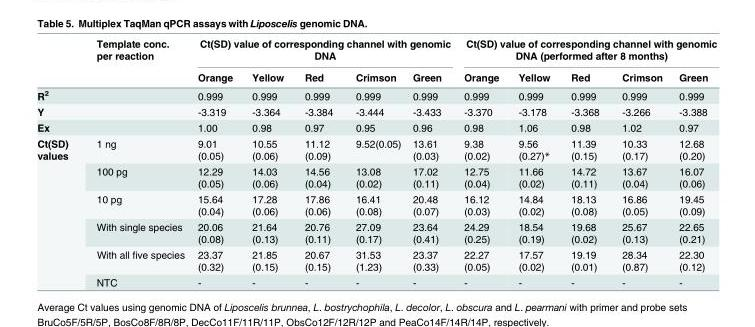table: (36, 37, 716, 287)
table column: (81, 37, 190, 287), (343, 37, 406, 287), (609, 37, 670, 287), (241, 37, 293, 287), (507, 37, 559, 287), (190, 37, 241, 287), (456, 37, 507, 287), (293, 37, 343, 287), (406, 37, 456, 287), (559, 37, 609, 287), (670, 37, 716, 287), (36, 37, 81, 287)
table column header: (36, 37, 716, 85)
table row: (36, 37, 716, 65), (36, 135, 716, 163), (36, 190, 716, 218), (36, 218, 716, 246), (36, 246, 716, 274), (36, 163, 716, 190), (36, 65, 716, 85), (36, 85, 716, 103), (36, 103, 716, 119), (36, 119, 716, 135), (36, 274, 716, 287)
table spanning cell: (190, 37, 456, 65), (456, 37, 716, 65), (36, 135, 81, 287), (81, 37, 190, 85)
